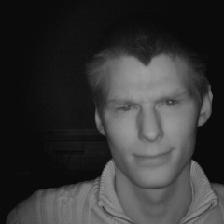happy: (85, 33, 213, 194)
